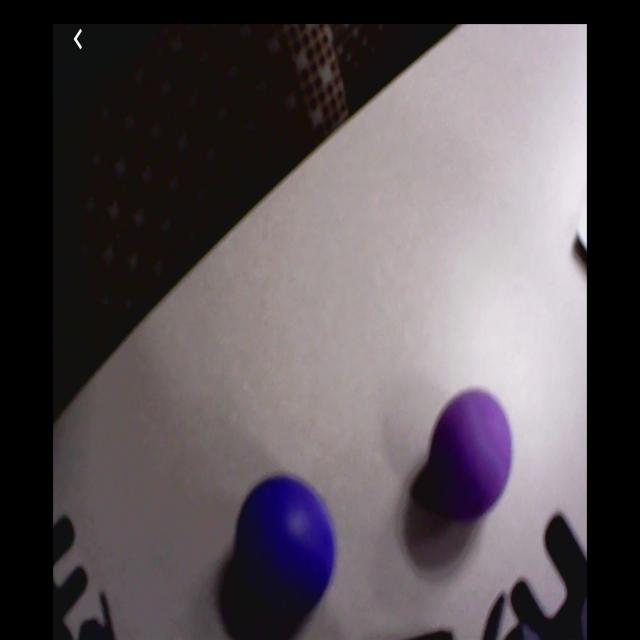ball: (236, 475, 335, 610), (431, 388, 513, 521)
